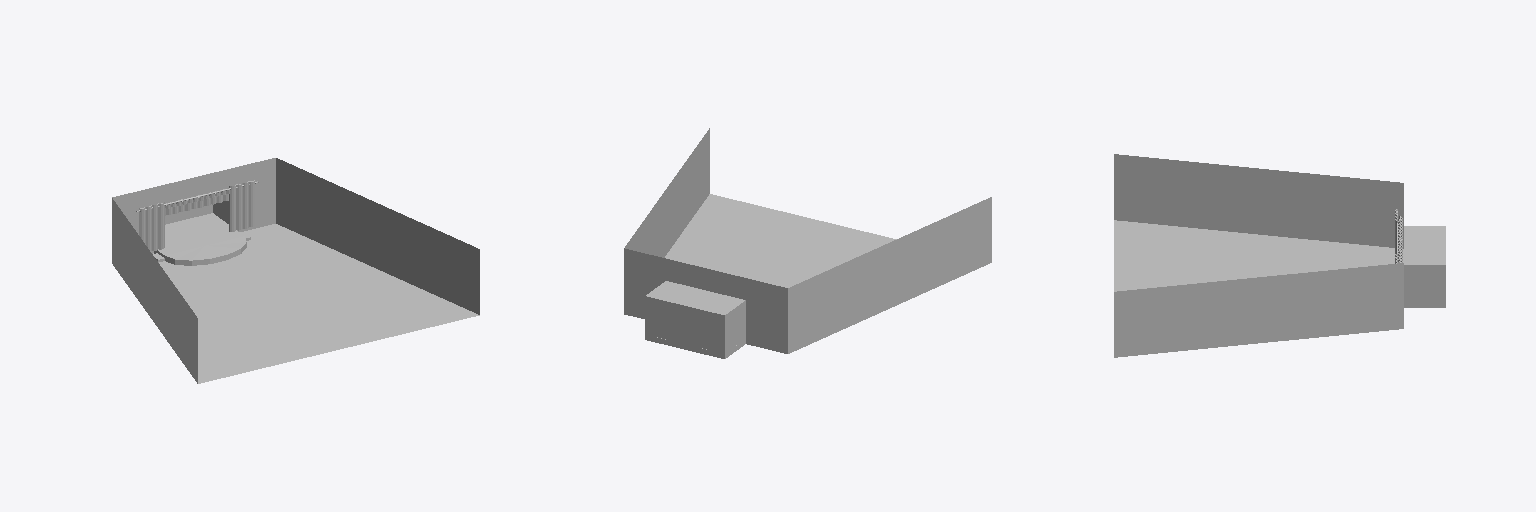
Rendered from THEATRE_5.obj.
3 views of the same model, side by side, from view 1: azimuth 30°, elevation 25°; view 2: azimuth 150°, elevation 25°; view 3: azimuth 270°, elevation 25° (orthographic).
Visible parts, largest first — view 1: THEATRE Walls1, Stage THEATRE, THEATRE Curtains Curtains_1 Left_curtain1, THEATRE Curtains Left_curtain Curtains_1; view 2: THEATRE Walls1, Stage THEATRE; view 3: THEATRE Walls1.
Boxes of the visible parts, box(x1,y1,x2,y2) form: THEATRE Walls1: box(112, 158, 479, 383); Stage THEATRE: box(154, 213, 246, 265); THEATRE Curtains Curtains_1 Left_curtain1: box(229, 180, 254, 231); THEATRE Curtains Left_curtain Curtains_1: box(139, 202, 164, 251); THEATRE Walls1: box(624, 128, 991, 353); Stage THEATRE: box(645, 335, 745, 358); THEATRE Walls1: box(1114, 154, 1445, 357).
Bounding box in the file's own units: 108 × 24.15 × 110.